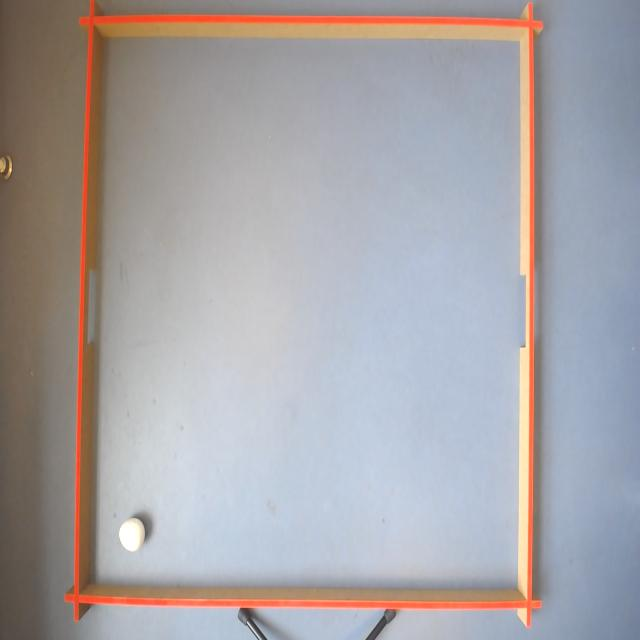egg: (118, 516, 146, 554)
